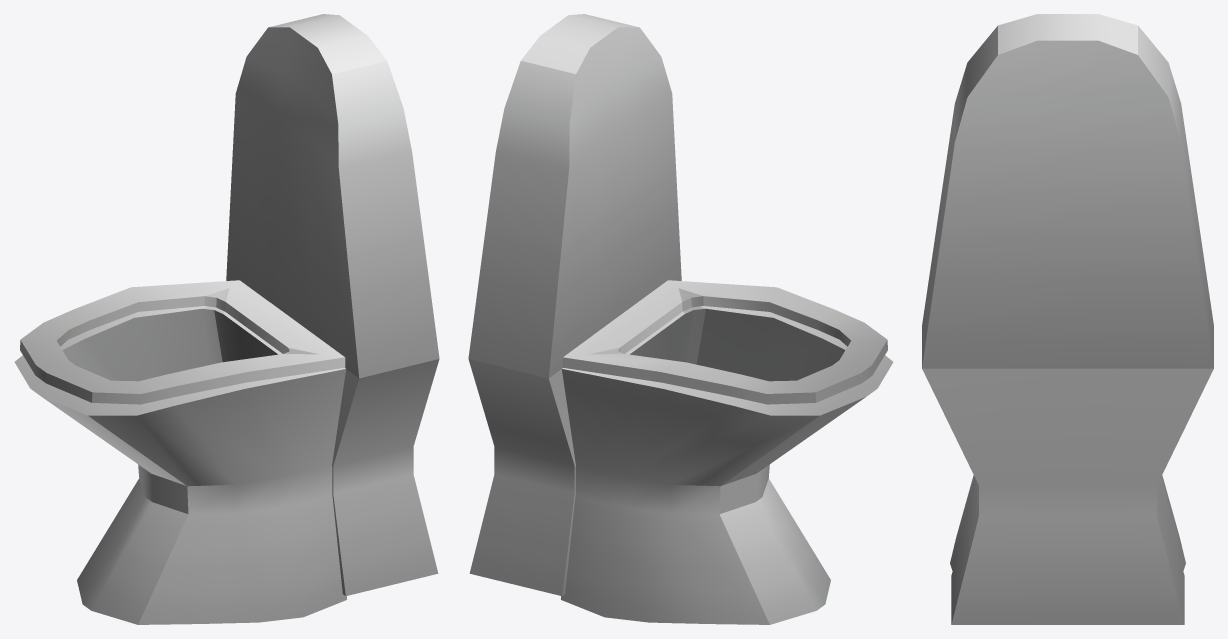
File: ST_Toilet.fbx
The picture shows the model from 3 angles, left to right: view 1: azimuth 30°, elevation 25°; view 2: azimuth 150°, elevation 25°; view 3: azimuth 270°, elevation 25°; orthographic projection. The views are drawn at different scales.
Visible parts, largest first — view 1: ST_Toilet; view 2: ST_Toilet; view 3: ST_Toilet.
Part boxes in pixels (left/top/right/bottom): ST_Toilet: left=14, top=14, right=439, bottom=624; ST_Toilet: left=468, top=14, right=893, bottom=624; ST_Toilet: left=922, top=14, right=1213, bottom=624.
Size of the model in its own units: 61.76 by 88.98 by 40.7.
